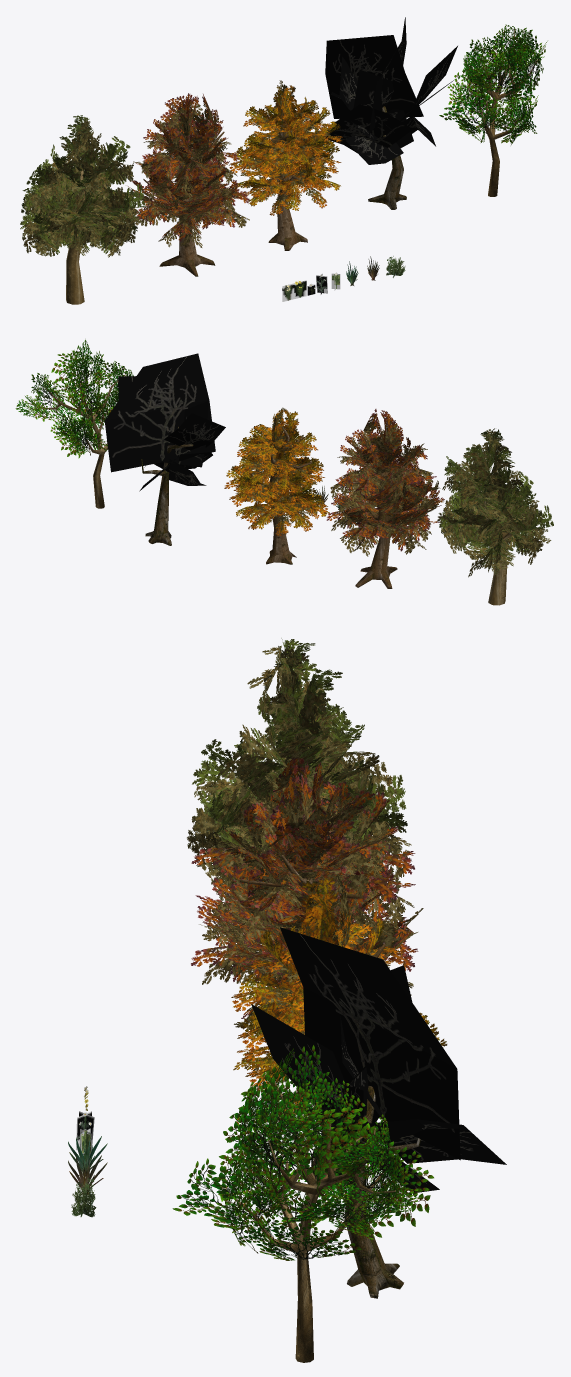
File: Treebunch.fbx
The picture shows the model from 3 angles, top to bottom: view 1: azimuth 30°, elevation 25°; view 2: azimuth 150°, elevation 25°; view 3: azimuth 270°, elevation 25°; orthographic projection. The views are drawn at different scales.
Parts seen in each view (by area): view 1: tree-stylized-04-green, tree-stylized-05-autumn-brown, tree-stylized-02-dry, tree-stylized-03-autumn-yellow, tree-stylized-01; view 2: tree-stylized-02-dry, tree-stylized-05-autumn-brown, tree-stylized-04-green, tree-stylized-03-autumn-yellow, tree-stylized-01; view 3: tree-stylized-01, tree-stylized-02-dry, tree-stylized-05-autumn-brown, tree-stylized-04-green, tree-stylized-03-autumn-yellow.
Boxes of the visible parts, x1,y1,x2,y2 form: tree-stylized-04-green: (20, 115, 146, 304); tree-stylized-05-autumn-brown: (128, 93, 249, 276); tree-stylized-02-dry: (324, 17, 457, 209); tree-stylized-03-autumn-yellow: (229, 80, 342, 250); tree-stylized-01: (439, 24, 547, 196); tree-stylized-02-dry: (104, 353, 225, 545); tree-stylized-05-autumn-brown: (326, 409, 444, 588); tree-stylized-04-green: (437, 428, 553, 605); tree-stylized-03-autumn-yellow: (224, 407, 329, 564); tree-stylized-01: (15, 339, 133, 508); tree-stylized-01: (172, 1045, 433, 1362); tree-stylized-02-dry: (251, 927, 506, 1298); tree-stylized-05-autumn-brown: (191, 757, 423, 1096); tree-stylized-04-green: (187, 638, 409, 979); tree-stylized-03-autumn-yellow: (231, 875, 447, 1194).
Size of the model in its own units: 1015 by 344 by 382.
